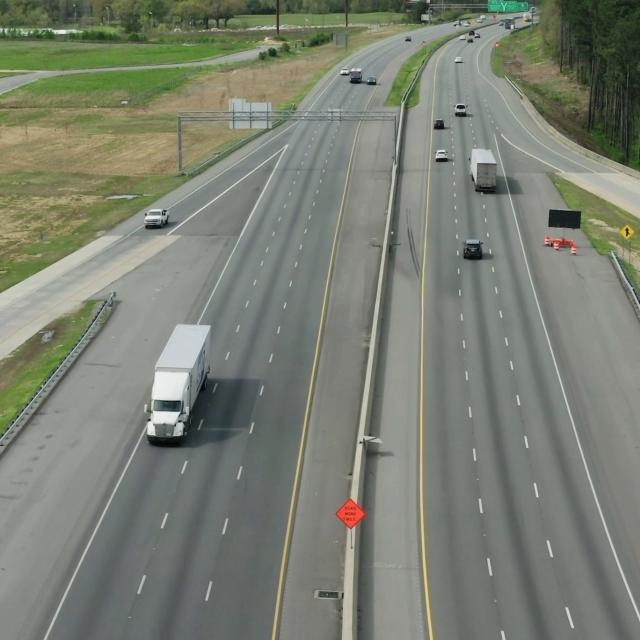Car: (145, 322, 218, 450), (468, 149, 498, 192), (141, 206, 174, 232), (462, 237, 486, 261), (433, 147, 450, 163)
